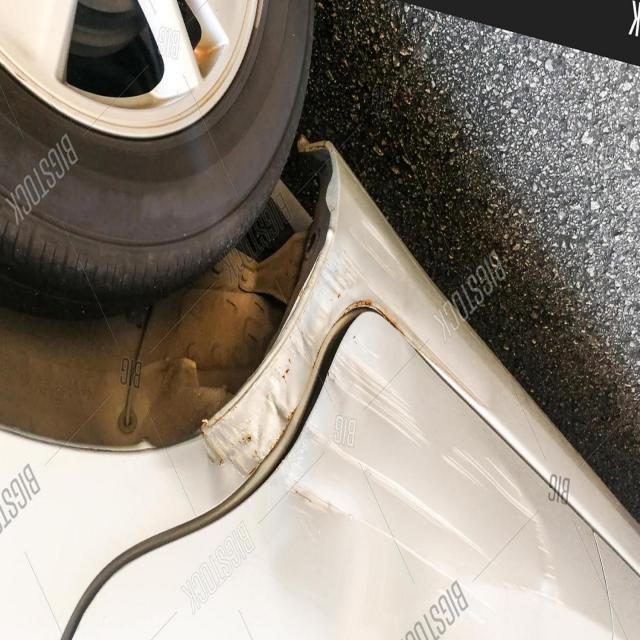dent: (192, 264, 406, 494)
